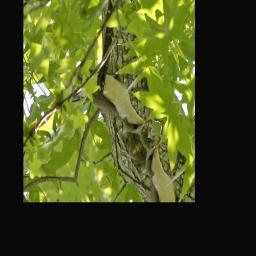Cuckoo: (65, 39, 153, 171)
